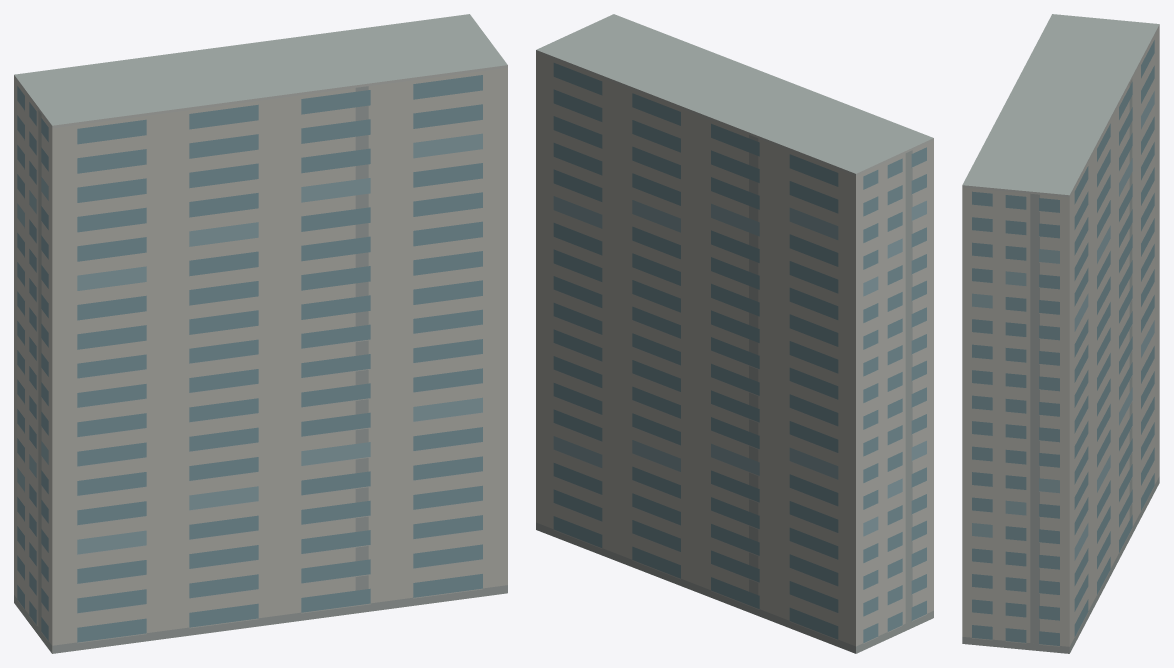
Rendered from residential-80ef519e-339a-4311-b193-aab9d7ddd384.glb.
The picture shows the model from 3 angles, left to right: view 1: azimuth 30°, elevation 25°; view 2: azimuth 150°, elevation 25°; view 3: azimuth 270°, elevation 25°; orthographic projection. The views are drawn at different scales.
Visible parts, largest first — view 1: residential-80ef519e-339a-4311-b193-aab9d7ddd384.tmp; view 2: residential-80ef519e-339a-4311-b193-aab9d7ddd384.tmp; view 3: residential-80ef519e-339a-4311-b193-aab9d7ddd384.tmp.
Boxes of the visible parts, x1,y1,x2,y2 form: residential-80ef519e-339a-4311-b193-aab9d7ddd384.tmp: (14, 14, 507, 653); residential-80ef519e-339a-4311-b193-aab9d7ddd384.tmp: (536, 14, 933, 653); residential-80ef519e-339a-4311-b193-aab9d7ddd384.tmp: (962, 14, 1159, 653).
Bounding box in the file's own units: 43.23 × 51 × 19.9.
